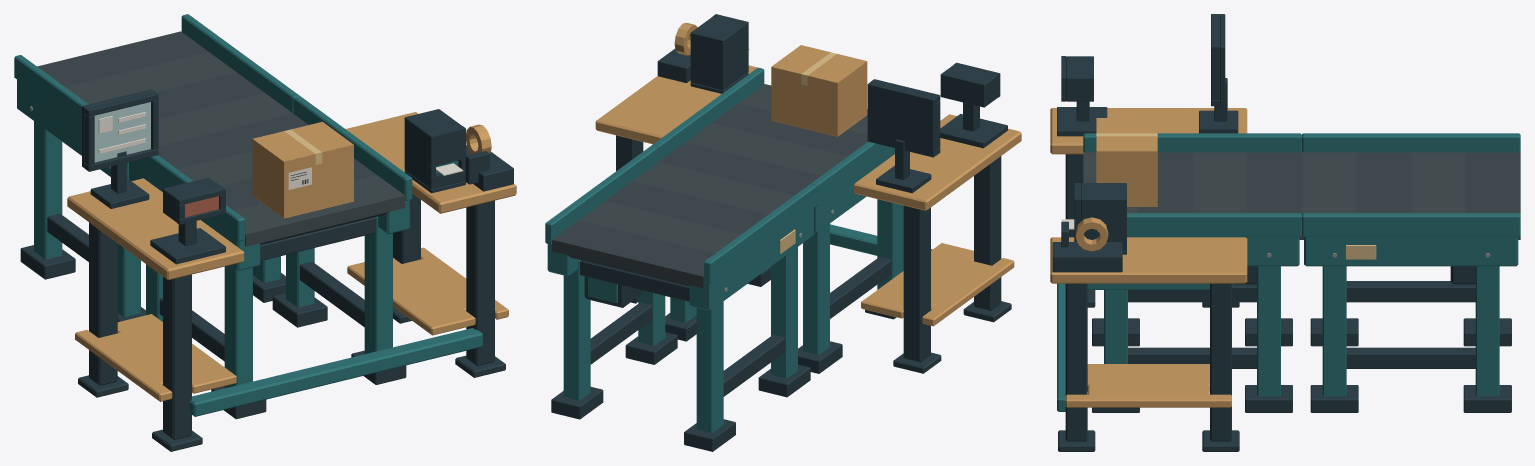
The model's file is packer-workcell-fixture.glb.
The picture shows the model from 3 angles, left to right: view 1: azimuth 30°, elevation 25°; view 2: azimuth 150°, elevation 25°; view 3: azimuth 270°, elevation 25°; orthographic projection. The views are drawn at different scales.
Parts seen in each view (by area): view 1: packer-workcell-fixture__batch_16, packer-workcell-fixture__batch_14, packer-workcell-fixture__batch_11, packer-workcell-fixture__batch_05, packer-workcell-fixture__batch_10, packer-workcell-fixture__batch_03, packer-workcell-fixture__batch_02, packer-workcell-fixture__batch_15, packer-workcell-fixture__batch_01, packer-workcell-fixture__batch_09, packer-workcell-fixture__batch_08, packer-workcell-fixture__batch_18 (+8 smaller); view 2: packer-workcell-fixture__batch_05, packer-workcell-fixture__batch_16, packer-workcell-fixture__batch_11, packer-workcell-fixture__batch_04, packer-workcell-fixture__batch_14, packer-workcell-fixture__batch_02, packer-workcell-fixture__batch_03, packer-workcell-fixture__batch_08, packer-workcell-fixture__batch_22, packer-workcell-fixture__batch_01, packer-workcell-fixture__batch_09, packer-workcell-fixture__batch_18 (+6 smaller); view 3: packer-workcell-fixture__batch_05, packer-workcell-fixture__batch_16, packer-workcell-fixture__batch_11, packer-workcell-fixture__batch_04, packer-workcell-fixture__batch_14, packer-workcell-fixture__batch_02, packer-workcell-fixture__batch_03, packer-workcell-fixture__batch_10, packer-workcell-fixture__batch_08, packer-workcell-fixture__batch_09, packer-workcell-fixture__batch_20, packer-workcell-fixture__batch_00 (+7 smaller).
Part boxes in pixels (x1,y1,x2,y2): packer-workcell-fixture__batch_16: [67, 112, 516, 401]; packer-workcell-fixture__batch_14: [78, 193, 505, 451]; packer-workcell-fixture__batch_11: [129, 96, 412, 388]; packer-workcell-fixture__batch_05: [14, 14, 299, 316]; packer-workcell-fixture__batch_10: [159, 212, 406, 419]; packer-workcell-fixture__batch_03: [65, 52, 292, 145]; packer-workcell-fixture__batch_02: [37, 31, 264, 118]; packer-workcell-fixture__batch_15: [190, 328, 482, 416]; packer-workcell-fixture__batch_01: [253, 121, 353, 217]; packer-workcell-fixture__batch_09: [177, 151, 405, 246]; packer-workcell-fixture__batch_08: [158, 113, 376, 210]; packer-workcell-fixture__batch_18: [404, 109, 465, 193]; packer-workcell-fixture__batch_05: [545, 145, 816, 432]; packer-workcell-fixture__batch_16: [595, 65, 1021, 326]; packer-workcell-fixture__batch_11: [652, 67, 903, 354]; packer-workcell-fixture__batch_04: [551, 255, 810, 451]; packer-workcell-fixture__batch_14: [616, 135, 1011, 373]; packer-workcell-fixture__batch_02: [552, 181, 767, 287]; packer-workcell-fixture__batch_03: [579, 162, 794, 253]; packer-workcell-fixture__batch_08: [659, 103, 867, 194]; packer-workcell-fixture__batch_22: [867, 79, 940, 193]; packer-workcell-fixture__batch_01: [771, 45, 866, 136]; packer-workcell-fixture__batch_09: [685, 84, 867, 175]; packer-workcell-fixture__batch_18: [690, 14, 748, 93]; packer-workcell-fixture__batch_05: [1302, 133, 1520, 396]; packer-workcell-fixture__batch_16: [1050, 108, 1247, 407]; packer-workcell-fixture__batch_11: [1083, 133, 1301, 396]; packer-workcell-fixture__batch_04: [1310, 266, 1511, 412]; packer-workcell-fixture__batch_14: [1058, 154, 1239, 451]; packer-workcell-fixture__batch_02: [1356, 152, 1520, 239]; packer-workcell-fixture__batch_03: [1302, 152, 1465, 239]; packer-workcell-fixture__batch_10: [1092, 266, 1292, 412]; packer-workcell-fixture__batch_08: [1138, 152, 1301, 239]; packer-workcell-fixture__batch_09: [1083, 152, 1247, 212]; packer-workcell-fixture__batch_20: [1057, 56, 1107, 136]; packer-workcell-fixture__batch_00: [1096, 151, 1157, 206].
Size of the model in its own units: 1.8 by 1.4 by 2.15.
